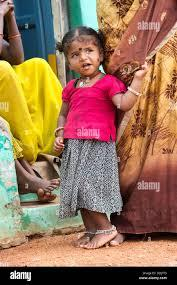Human: (53, 20, 146, 255)
